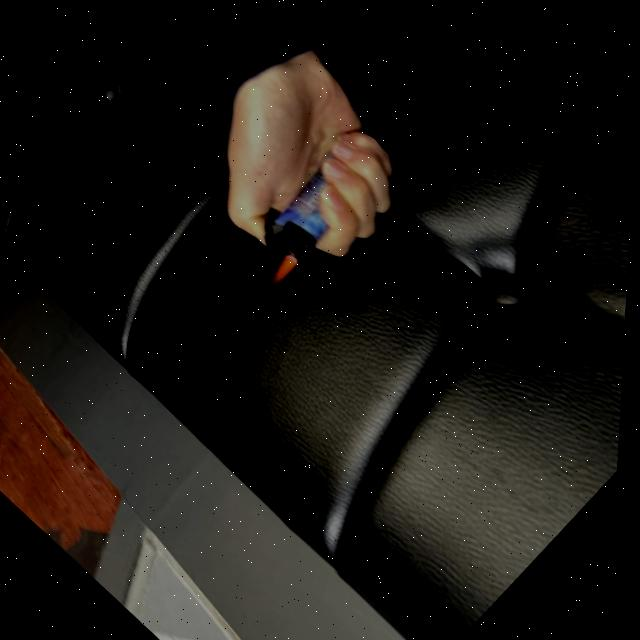Fire: (264, 242, 306, 286)
